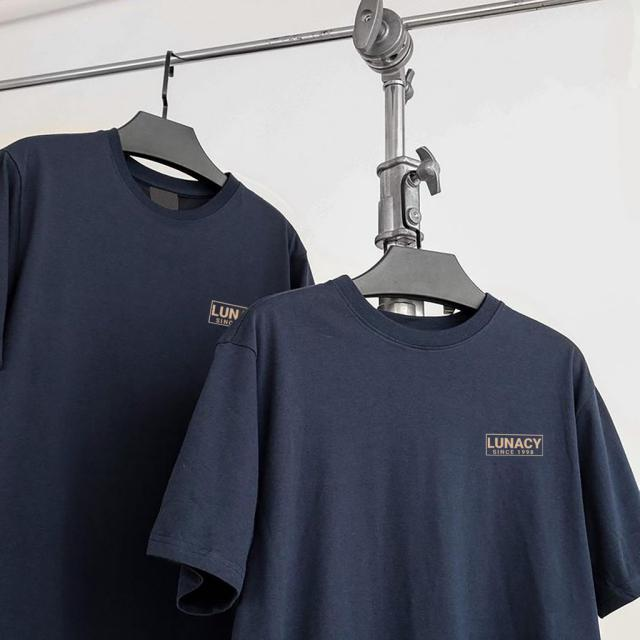Shirt: (146, 276, 640, 640), (1, 132, 316, 640)
